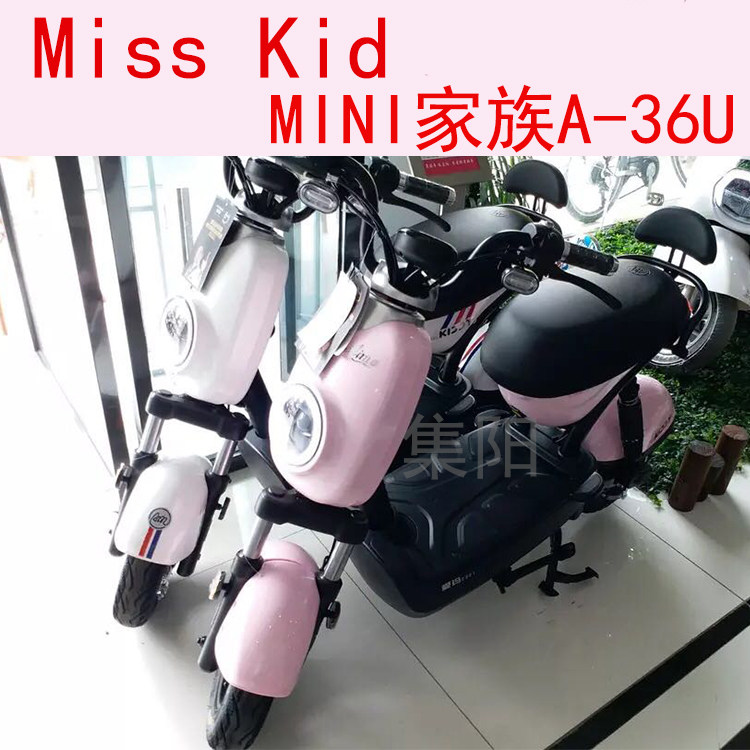电动车: (202, 194, 730, 748), (102, 153, 322, 631)
